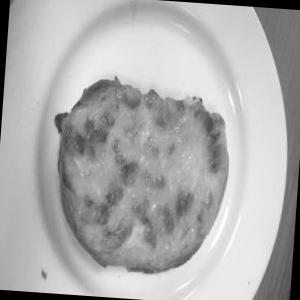cheese_sandwich: (48, 54, 245, 288)
